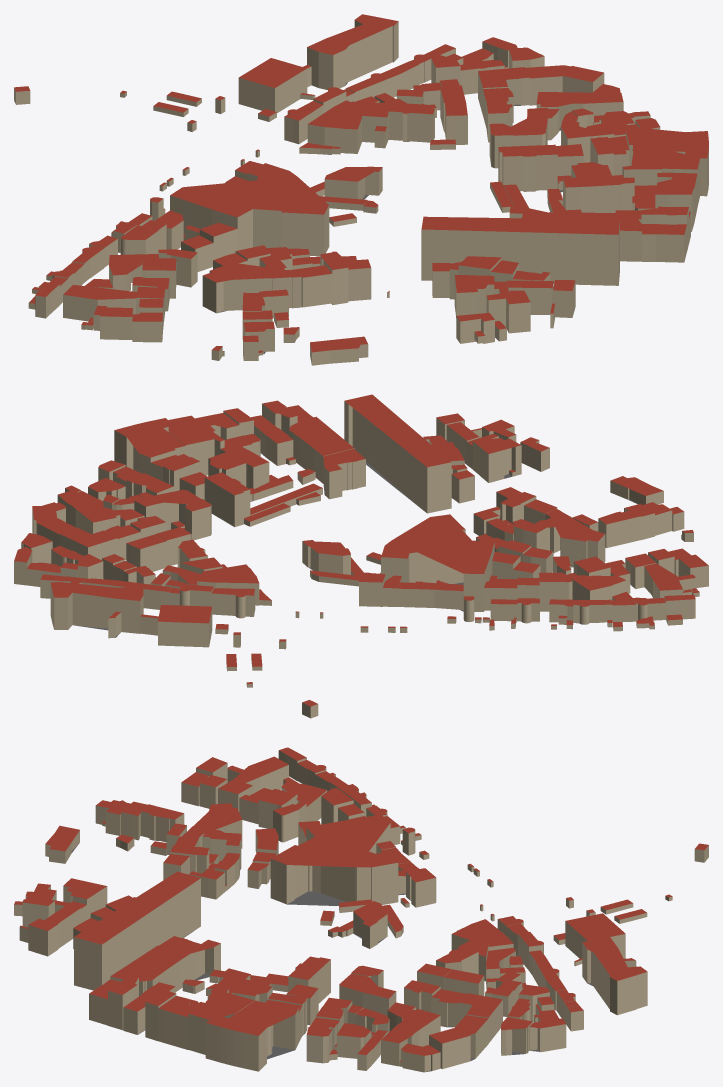
Rendered from ingolstadt_250_lod1_buildings.obj.
The picture shows the model from 3 angles, top to bottom: view 1: azimuth 30°, elevation 25°; view 2: azimuth 150°, elevation 25°; view 3: azimuth 270°, elevation 25°; orthographic projection. The views are drawn at different scales.
Visible parts, largest first — view 1: bldg_DEBY_L2_4392457, bldg_DEBY_L2_4392429, bldg_DEBY_L2_4392664, bldg_DEBY_L2_4392422, bldg_DEBY_L2_4392673, bldg_DEBY_L2_4392490, bldg_DEBY_L2_4392859, bldg_DEBY_L2_4392470, bldg_DEBY_L2_4392874, bldg_DEBY_L2_4392474, bldg_DEBY_L2_52065731, bldg_DEBY_L2_4392825 (+47 smaller); view 2: bldg_DEBY_L2_4392457, bldg_DEBY_L2_4392429, bldg_DEBY_L2_4392664, bldg_DEBY_L2_4392470, bldg_DEBY_L2_4392673, bldg_DEBY_L2_4392461, bldg_DEBY_L2_4392490, bldg_DEBY_L2_4392422, bldg_DEBY_L2_4392460, bldg_DEBY_L2_52065731, bldg_DEBY_L2_4392476, bldg_DEBY_L2_4392451 (+53 smaller); view 3: bldg_DEBY_L2_4392429, bldg_DEBY_L2_4392457, bldg_DEBY_L2_4392470, bldg_DEBY_L2_4392664, bldg_DEBY_L2_4392461, bldg_DEBY_L2_4392474, bldg_DEBY_L2_4392476, bldg_DEBY_L2_52065731, bldg_DEBY_L2_4392673, bldg_DEBY_L2_4392495, bldg_DEBY_L2_4392467, bldg_DEBY_L2_4392460 (+49 smaller).
Part boxes in pixels (x1,y1,x2,y2): bldg_DEBY_L2_4392457: (421,216,619,285); bldg_DEBY_L2_4392429: (170,163,329,256); bldg_DEBY_L2_4392664: (307,17,398,89); bldg_DEBY_L2_4392422: (202,262,301,313); bldg_DEBY_L2_4392673: (238,58,307,112); bldg_DEBY_L2_4392490: (498,144,557,191); bldg_DEBY_L2_4392859: (563,175,634,212); bldg_DEBY_L2_4392470: (625,128,708,196); bldg_DEBY_L2_4392874: (307,100,364,153); bldg_DEBY_L2_4392474: (525,65,604,105); bldg_DEBY_L2_52065731: (622,150,700,207); bldg_DEBY_L2_4392825: (63,284,137,321); bldg_DEBY_L2_4392457: (344,394,451,513); bldg_DEBY_L2_4392429: (381,514,494,611); bldg_DEBY_L2_4392664: (50,581,143,633); bldg_DEBY_L2_4392470: (114,418,179,475); bldg_DEBY_L2_4392673: (158,605,212,647); bldg_DEBY_L2_4392461: (289,416,354,483); bldg_DEBY_L2_4392490: (204,472,250,527); bldg_DEBY_L2_4392422: (545,508,605,567); bldg_DEBY_L2_4392460: (323,449,365,499); bldg_DEBY_L2_52065731: (168,415,224,475); bldg_DEBY_L2_4392476: (57,490,120,533); bldg_DEBY_L2_4392451: (480,438,521,482); bldg_DEBY_L2_4392429: (270,814,398,905); bldg_DEBY_L2_4392457: (74,871,200,990); bldg_DEBY_L2_4392470: (205,1002,298,1071); bldg_DEBY_L2_4392664: (582,937,636,1015); bldg_DEBY_L2_4392461: (110,945,190,996); bldg_DEBY_L2_4392474: (429,1015,488,1069); bldg_DEBY_L2_4392476: (381,1009,440,1066); bldg_DEBY_L2_52065731: (188,988,254,1054); bldg_DEBY_L2_4392673: (565,913,625,958); bldg_DEBY_L2_4392495: (339,973,396,1016); bldg_DEBY_L2_4392467: (158,996,204,1049); bldg_DEBY_L2_4392460: (159,936,220,980).
Size of the model in its own units: 361 by 28.51 by 350.
